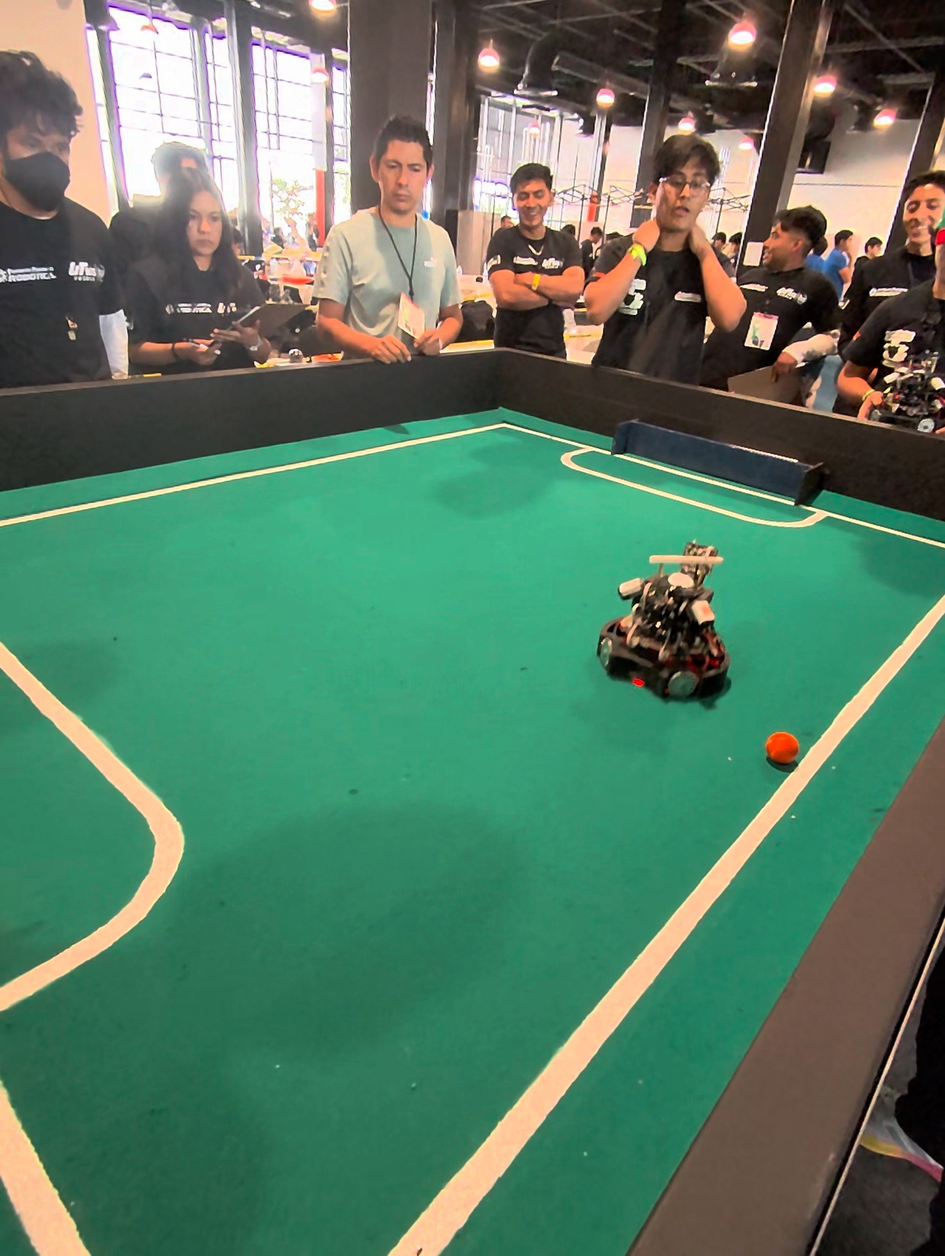Robot: (594, 532, 731, 712), (880, 311, 945, 451)
pelota: (766, 733, 800, 767)
